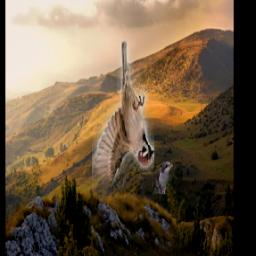Cuckoo: (153, 161, 174, 194)
Sparrow: (92, 41, 154, 212)
